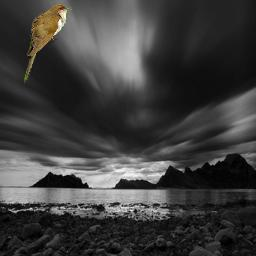Cuckoo: (24, 3, 72, 84)
